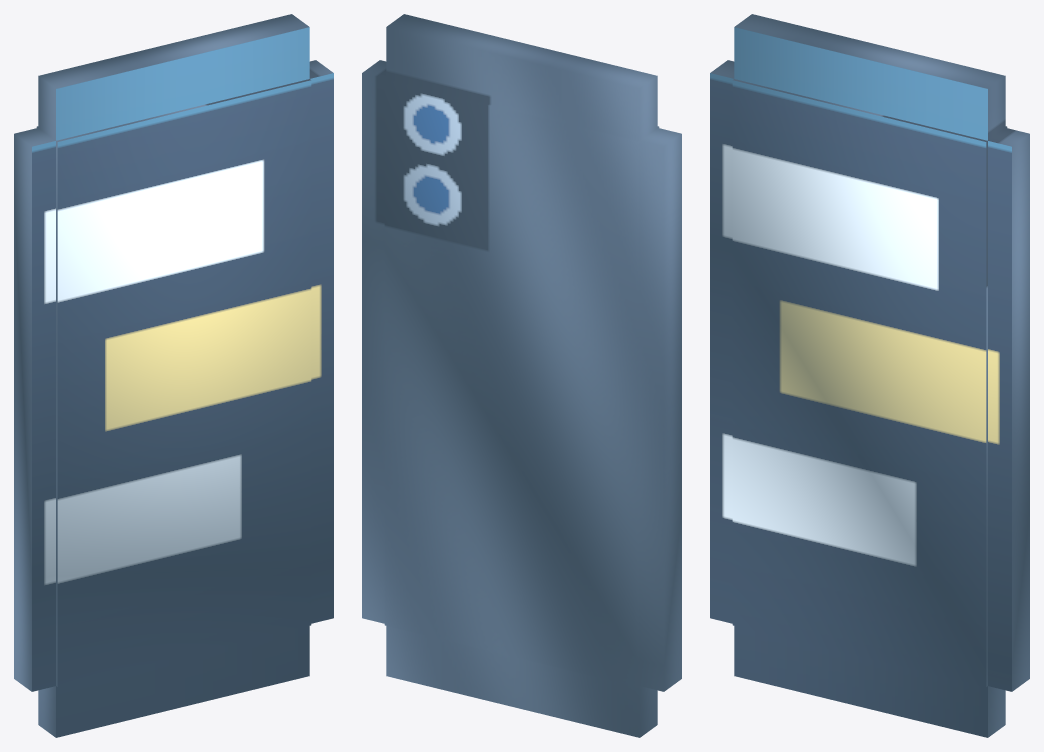
File: smartphone.glb
3 views of the same model, side by side, from view 1: azimuth 30°, elevation 25°; view 2: azimuth 150°, elevation 25°; view 3: azimuth 330°, elevation 25° (orthographic).
Visible parts, largest first — view 1: TS_Prop_smartphone; view 2: TS_Prop_smartphone; view 3: TS_Prop_smartphone.
Boxes of the visible parts, x1=… form: TS_Prop_smartphone: x1=14, y1=14, x2=333, y2=737; TS_Prop_smartphone: x1=362, y1=14, x2=681, y2=737; TS_Prop_smartphone: x1=710, y1=14, x2=1029, y2=737.
Size of the model in its own units: 0.074 by 0.152 by 0.009.
Materials: 1 (1 with a texture image).
